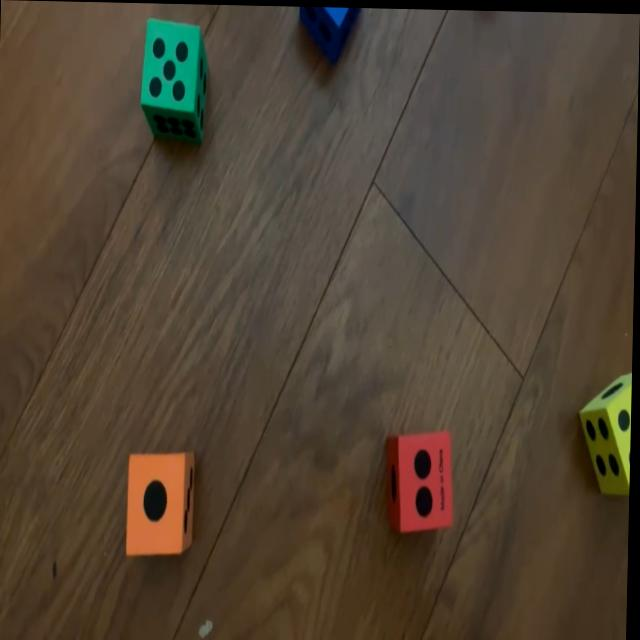cube: (139, 17, 209, 140), (386, 429, 457, 532), (298, 5, 357, 60)
